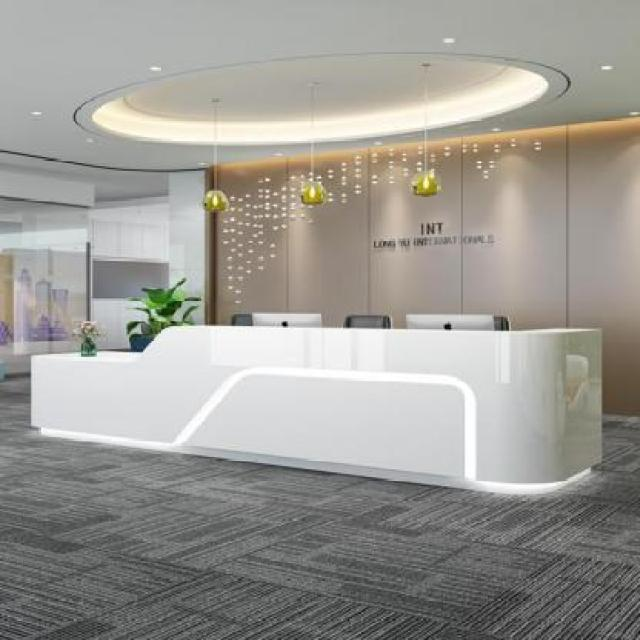frontdesk: (25, 303, 608, 507)
